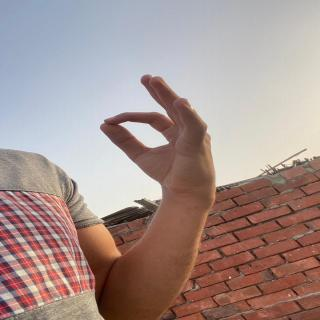Space: (98, 69, 222, 187)
